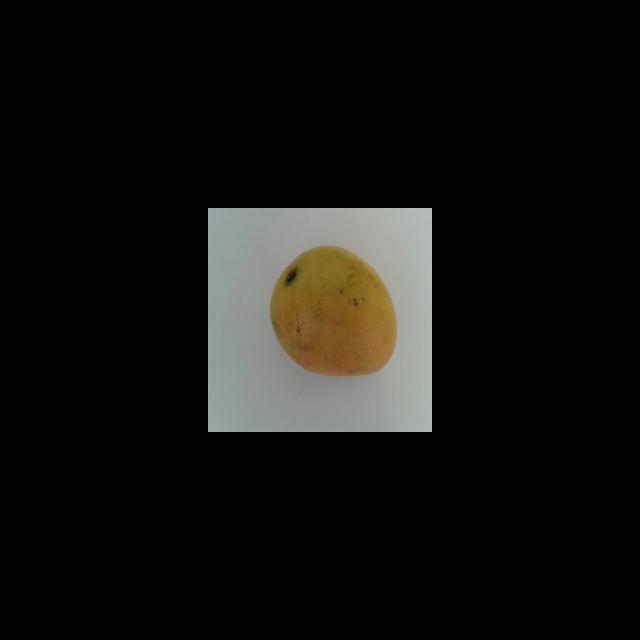Mango: (269, 244, 397, 376)
